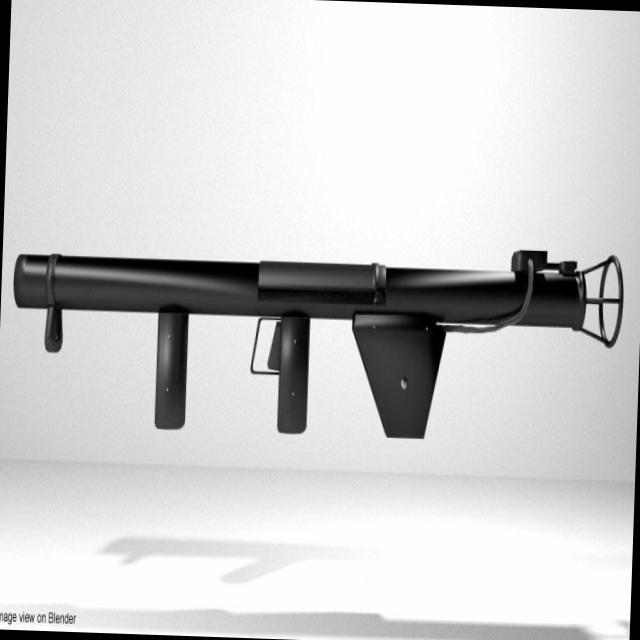rocket: (6, 233, 630, 448)
